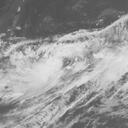cyclone: (23, 43, 81, 110)
